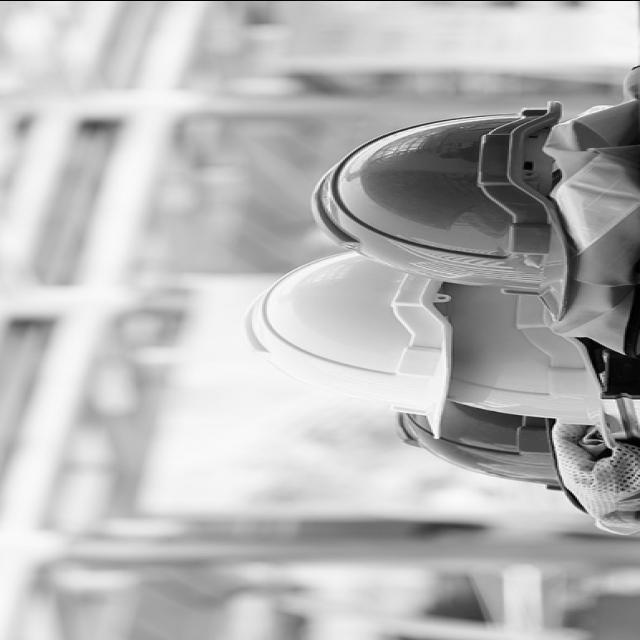safety_helmet: (244, 105, 569, 425)
